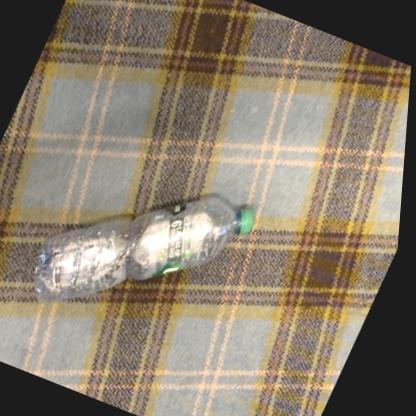Plastic: (37, 196, 256, 301)
